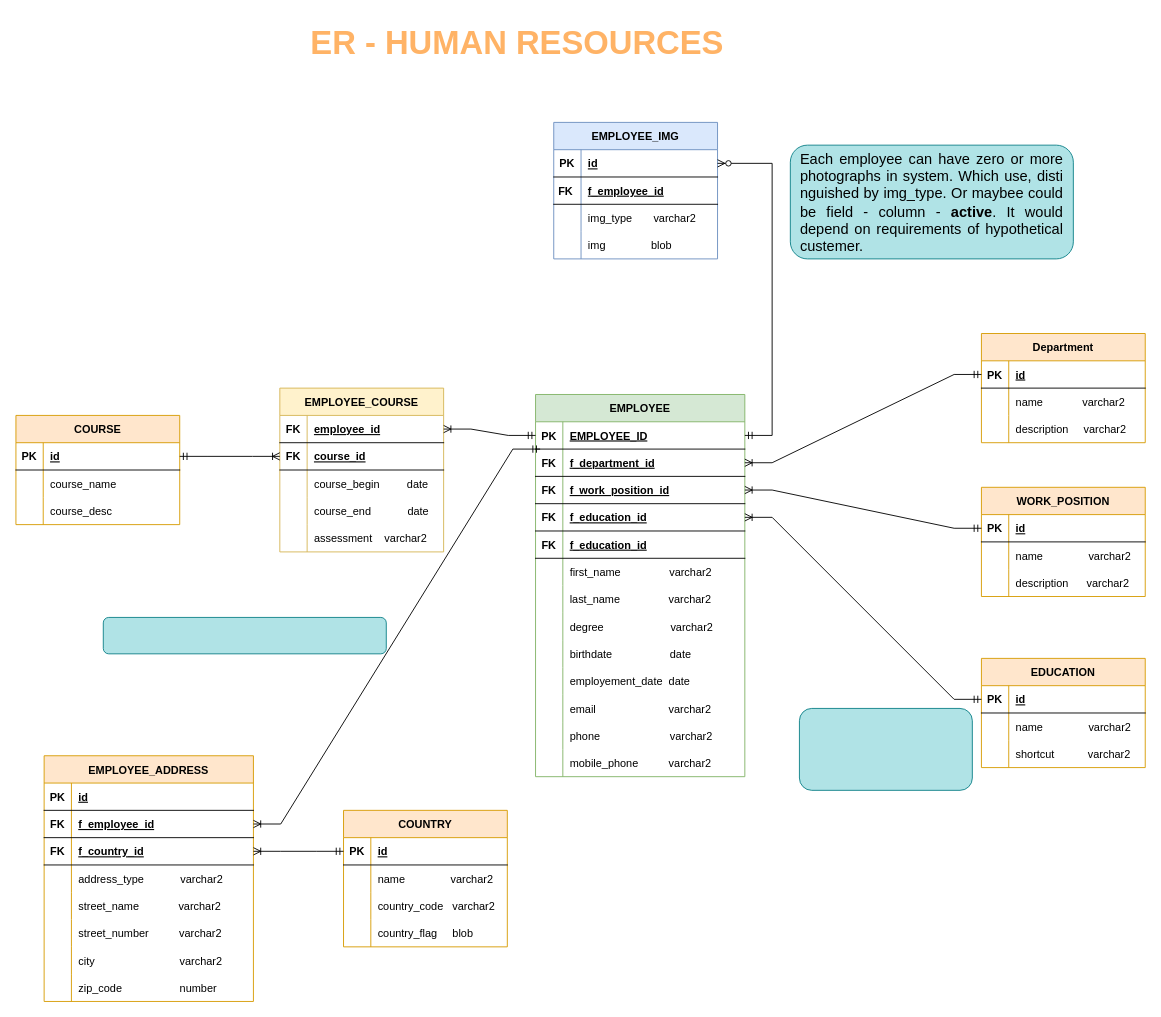
Some shapes in this 1161 by 1017 pixel diagram are drawn without their labels. The centre of each missing label's shape, as x and y in pixels:
"Each Employee can have more address. At least one." belongs at pixel 244 635.
"Highest achieved education. In other case must be relation M : N" belongs at pixel 885 749.
